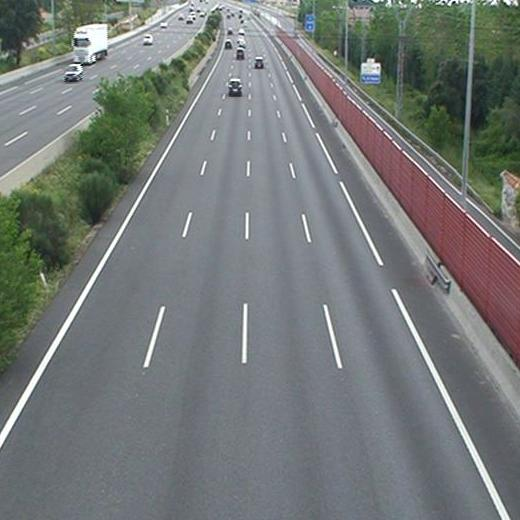car: (229, 79, 241, 95), (253, 57, 263, 67), (235, 49, 245, 58), (223, 40, 231, 48)
